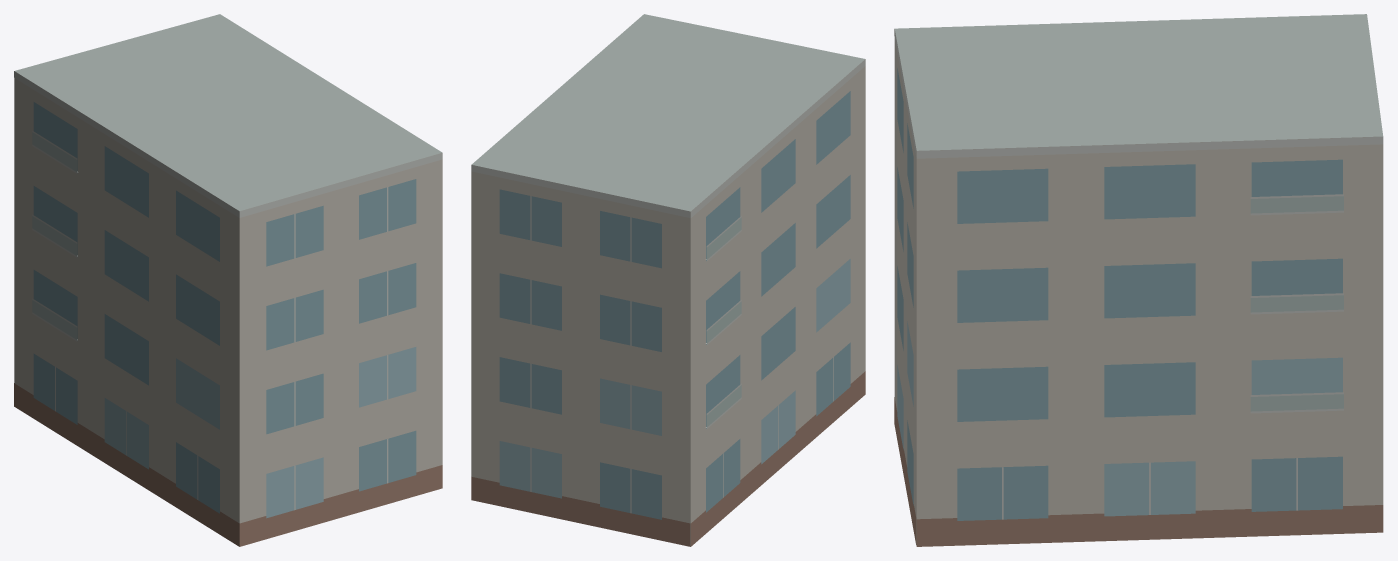
The model's file is survey-upis-32755825.glb.
The picture shows the model from 3 angles, left to right: view 1: azimuth 30°, elevation 25°; view 2: azimuth 150°, elevation 25°; view 3: azimuth 270°, elevation 25°; orthographic projection. The views are drawn at different scales.
Parts seen in each view (by area): view 1: survey-upis-32755825.tmp; view 2: survey-upis-32755825.tmp; view 3: survey-upis-32755825.tmp.
Part boxes in pixels (x1=…): survey-upis-32755825.tmp: x1=14, y1=14, x2=442, y2=546; survey-upis-32755825.tmp: x1=471, y1=14, x2=865, y2=546; survey-upis-32755825.tmp: x1=894, y1=14, x2=1383, y2=546.
Size of the model in its own units: 9.05 by 12.2 by 13.65.
